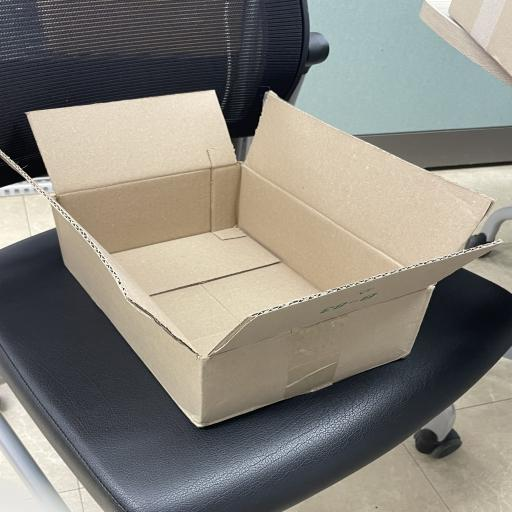box: (1, 90, 503, 429)
opened: (1, 90, 504, 360)
